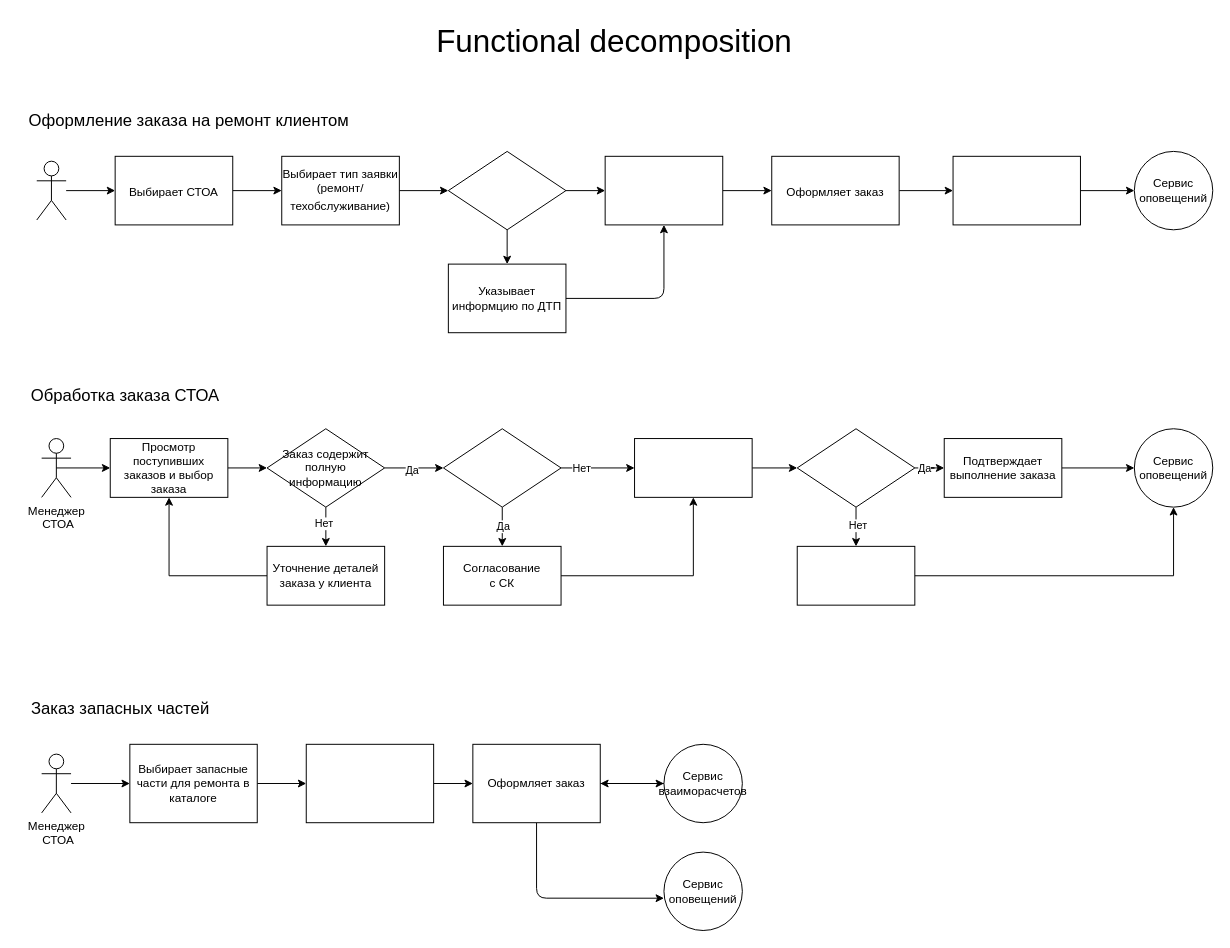
The diagram is 1230 pixels wide and 948 high, and some of its shapes have lost their labels. The centre of each missing label's shape, as x and y in pixels:
"Заказ выполнен" belongs at point (855, 467).
"Информирует клиента о причинах задержки" belongs at point (855, 575).
"Клиент" belongs at point (51, 190).
"Отправка уведомления о заказе на СТО" belongs at point (1016, 190).
"Подтверждение заказа и установка сроков." belongs at point (693, 467).
"Помещает выбранные запчасти в корзину покупателя" belongs at point (369, 783).
"Ремонт по страховому случаю" belongs at point (506, 190).
"Ремонт по страховому случаю?" belongs at point (501, 467).
"Указывает детали неисправности" belongs at point (663, 190).
